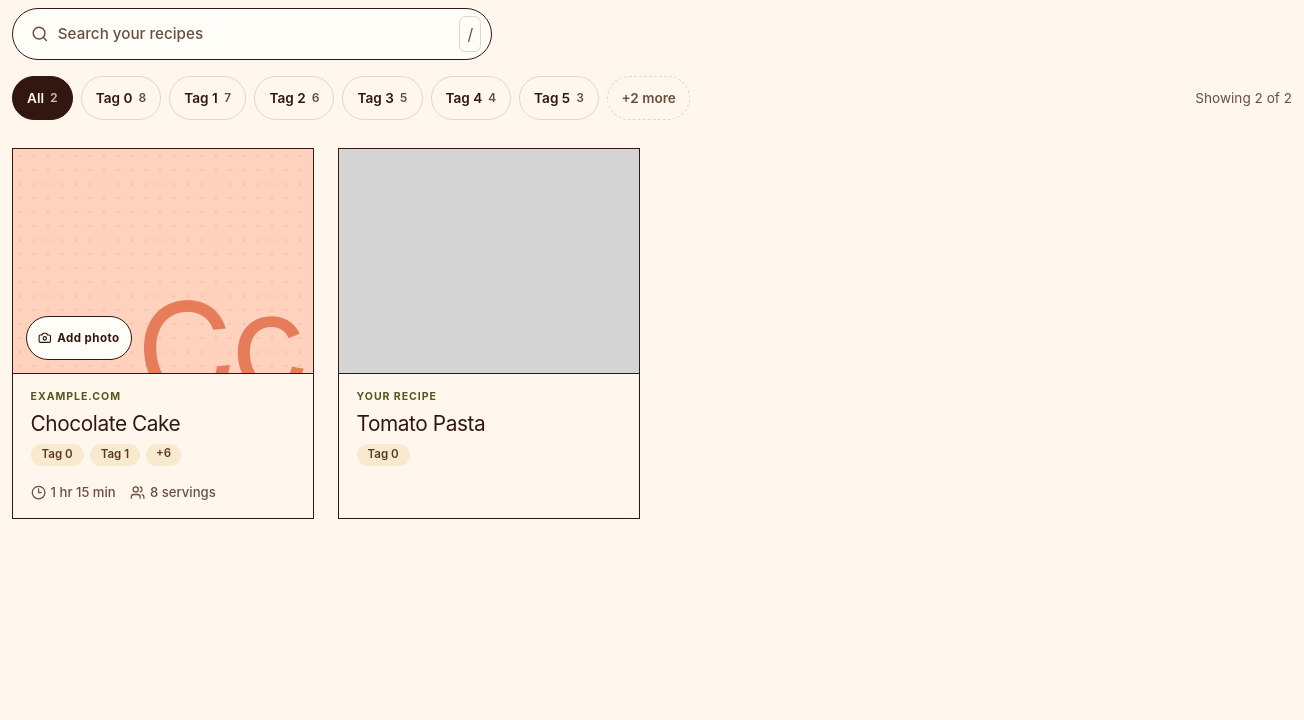
Test: RecipeList › combines fuzzy title search with exact tag filtering and resets both
The width and height of the screenshot is (1304, 720).
In the search field: (254,34) x1=58 y1=9 x2=450 y2=59, type "choclate"
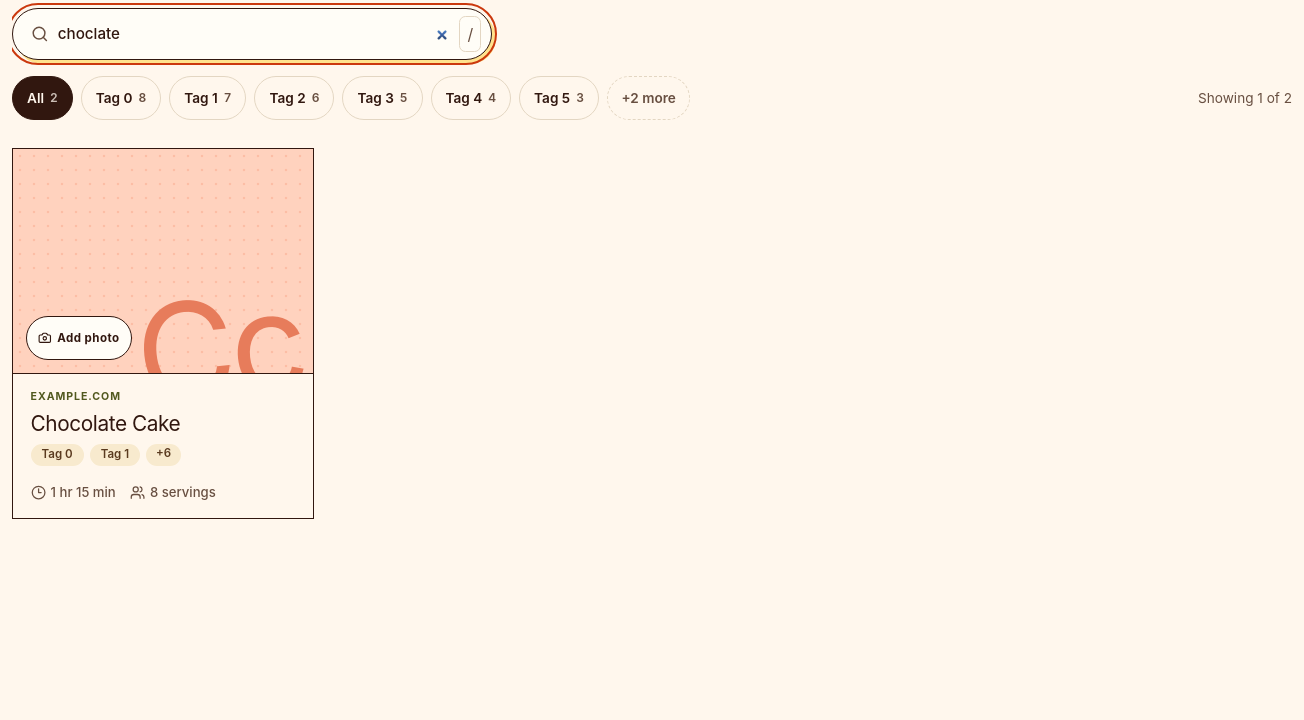
Result: the message reads "Showing 1 of 2" at x1=1198 y1=88 x2=1292 y2=108
Result: the link "Tomato Pasta" is gone
Click the button "Tag 1 7": (208,98) x1=169 y1=76 x2=246 y2=120
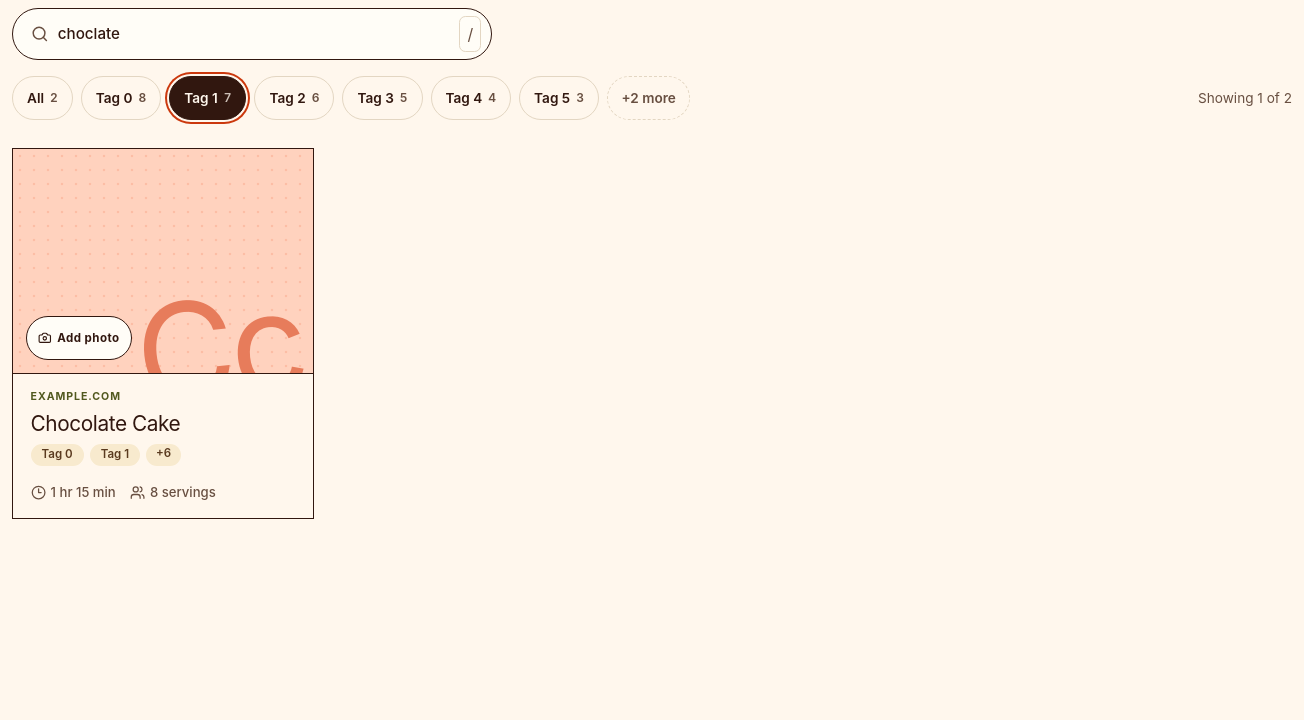
Replace the text in the search field with "pasta": (254,34) x1=58 y1=9 x2=450 y2=59
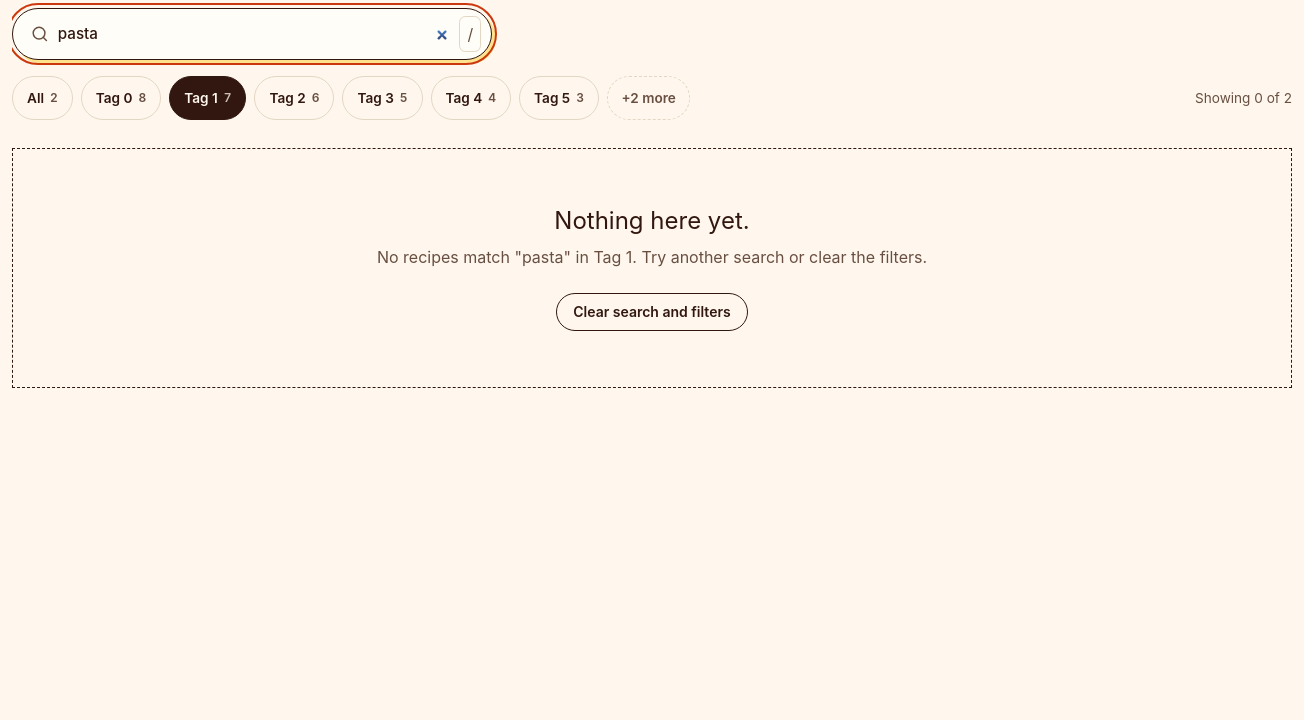
Result: the heading "Nothing here yet." is shown at x1=554 y1=206 x2=750 y2=235
Click the button "Clear search and filters": (652,312) x1=556 y1=293 x2=748 y2=331
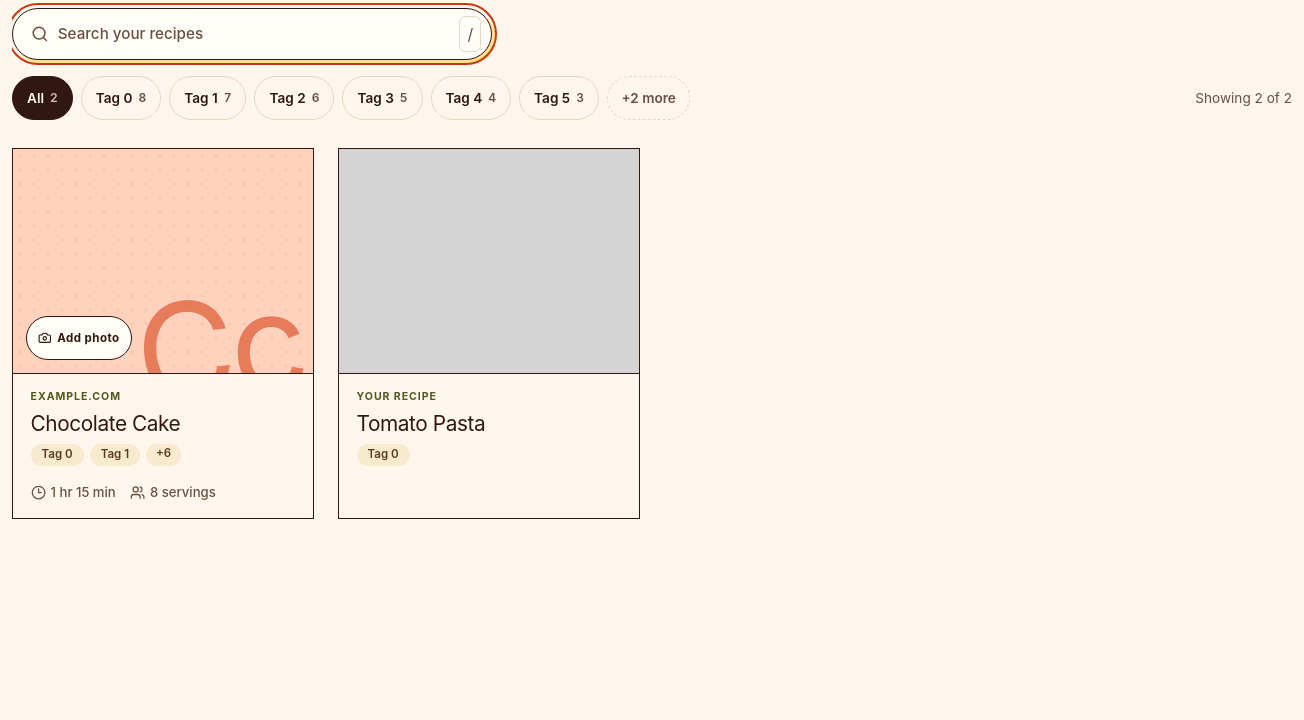
Result: the message reads "Showing 2 of 2" at x1=1195 y1=88 x2=1292 y2=108
